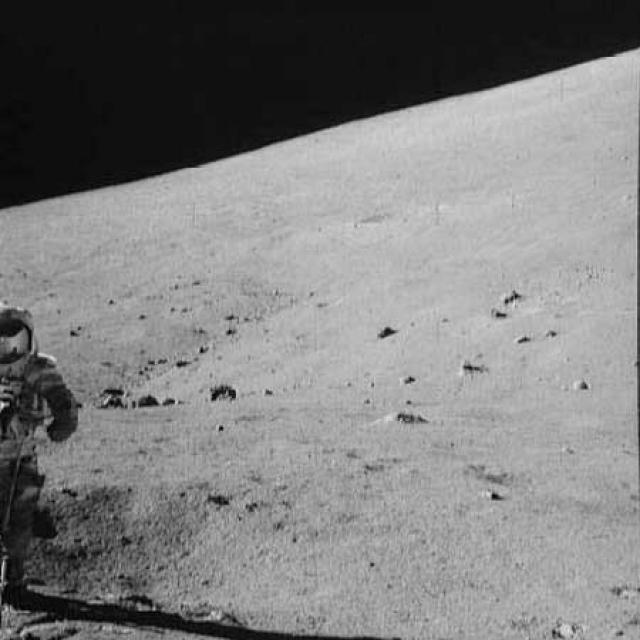rock: (374, 402, 435, 432), (198, 376, 243, 399), (96, 383, 126, 411), (369, 318, 399, 339), (135, 388, 160, 411), (454, 361, 487, 376)
